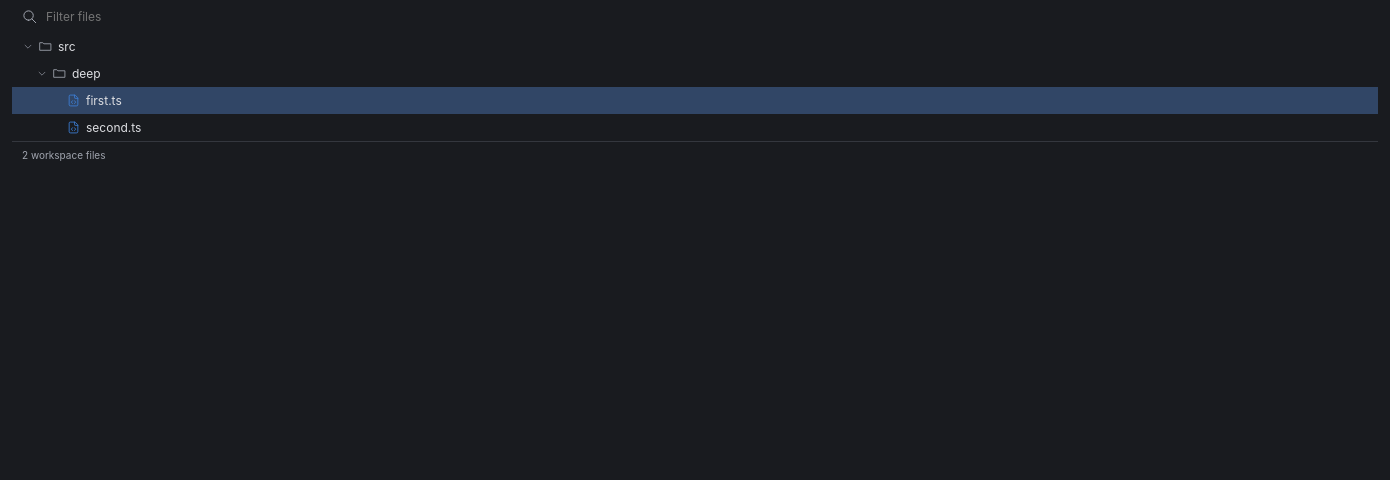
it: file context actions › targets the clicked file without opening it and supports keyboard invocation
Right-click the list item "second.ts" at (114,128), box [12,114,1378,141]
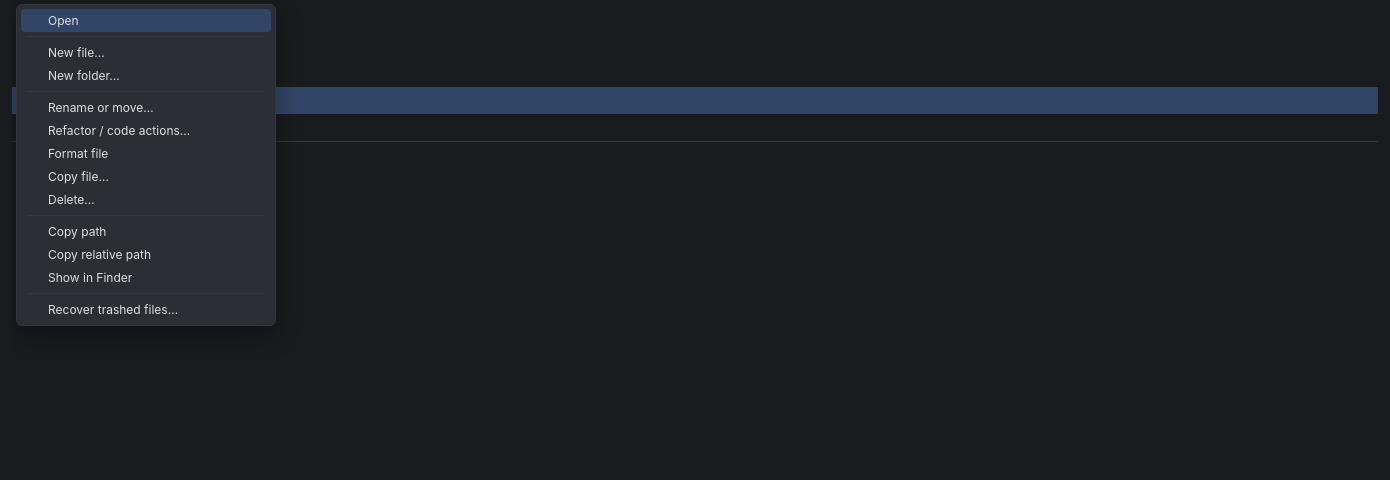
Click the menu item "Rename or move…" at (146,108), box [21,96,271,119]
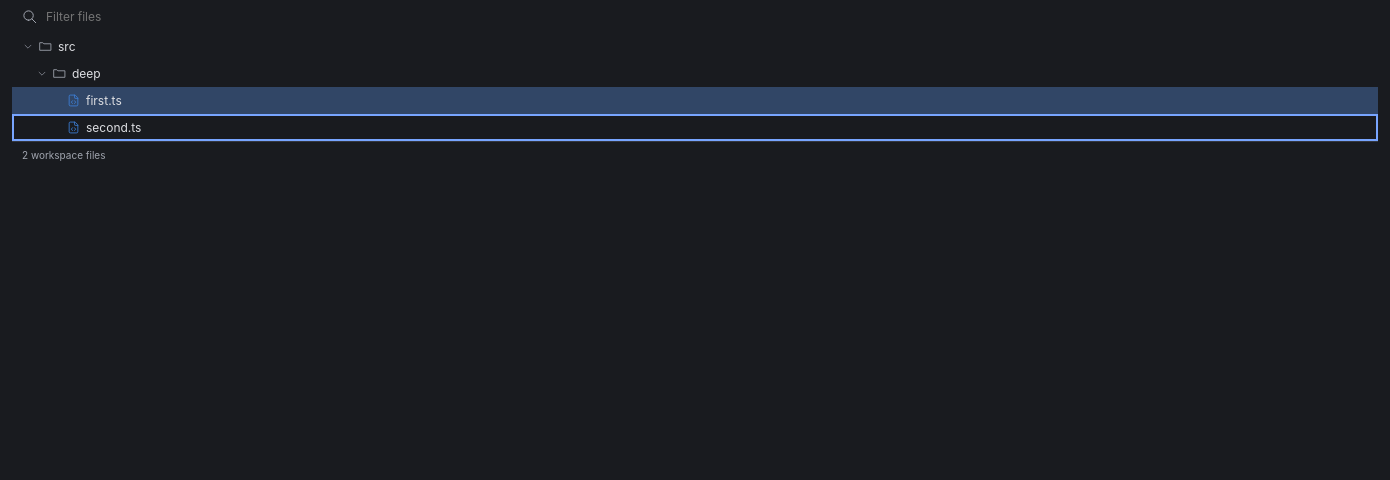
Press F10 in the list item "second.ts", box [12,114,1378,141]
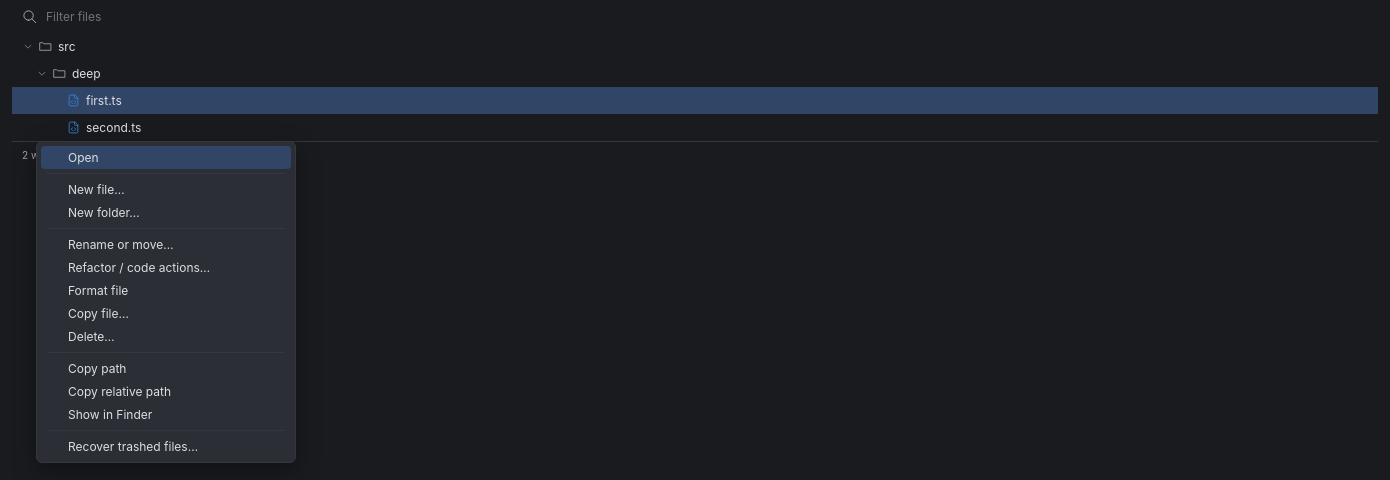
Check: the menu item "Copy file…" is shown, box [41,302,291,325]
Press Escape in the menu item "Open", box [41,146,291,169]
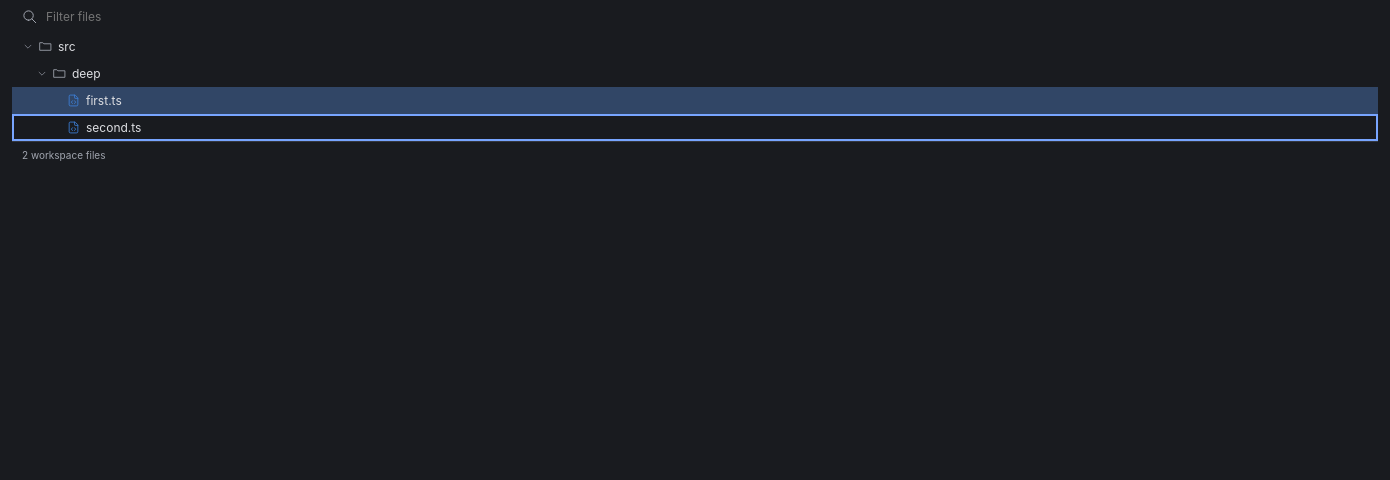
Check: the menu is gone
